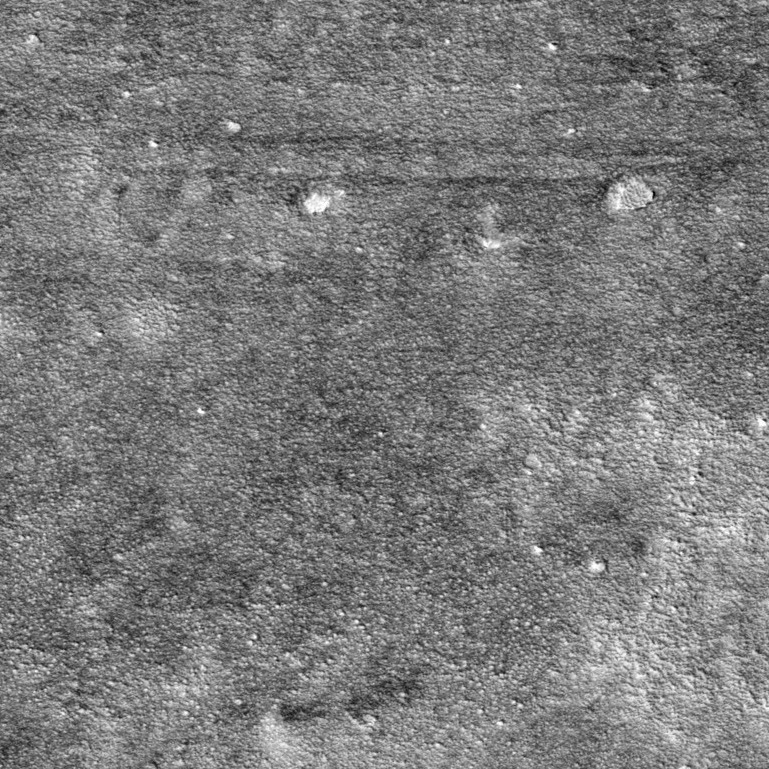dust_devil: (253, 664, 430, 756)
